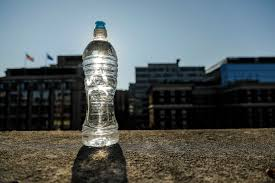Botella: (82, 21, 118, 146)
